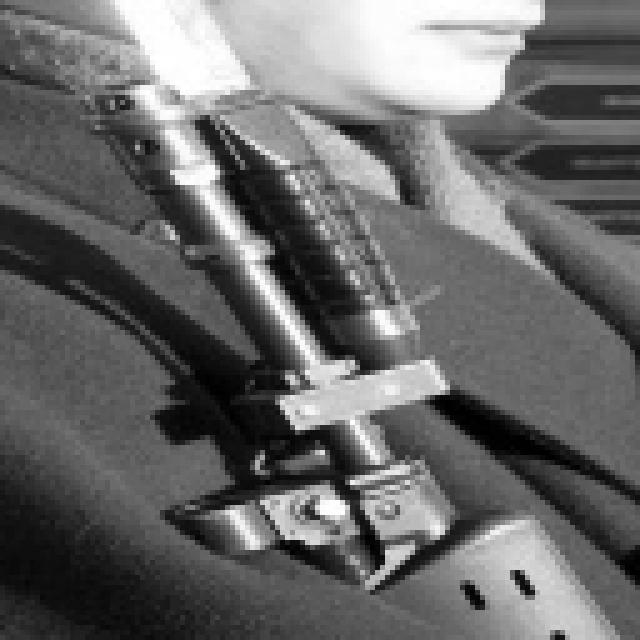Rifle: (78, 70, 636, 640)
